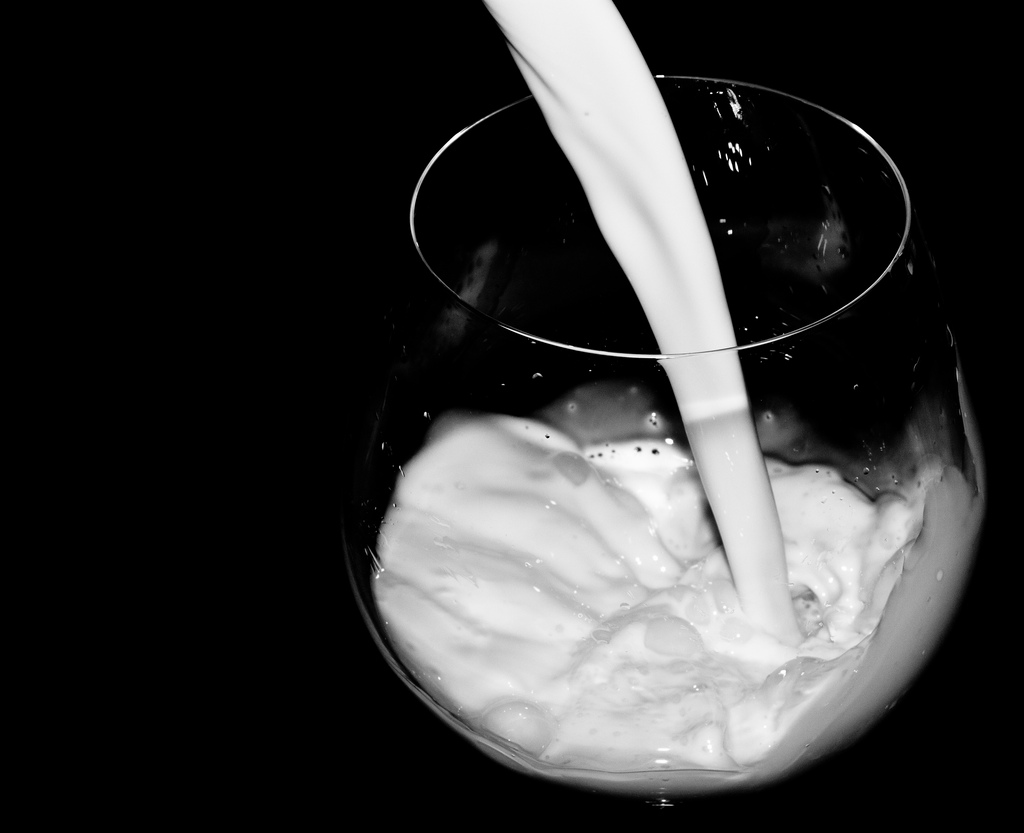glass of milk: (369, 29, 994, 809)
